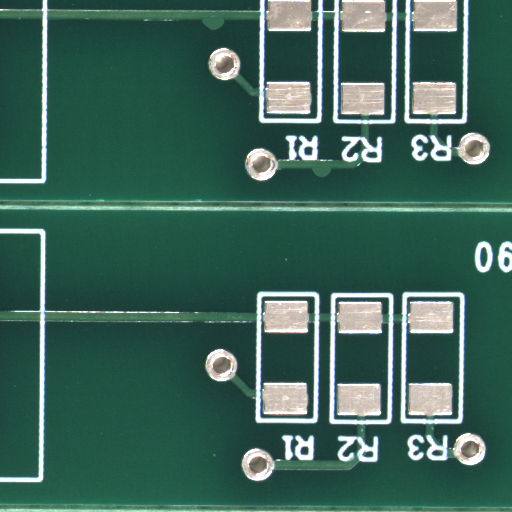Spur: (213, 23, 239, 34), (320, 172, 343, 184)
